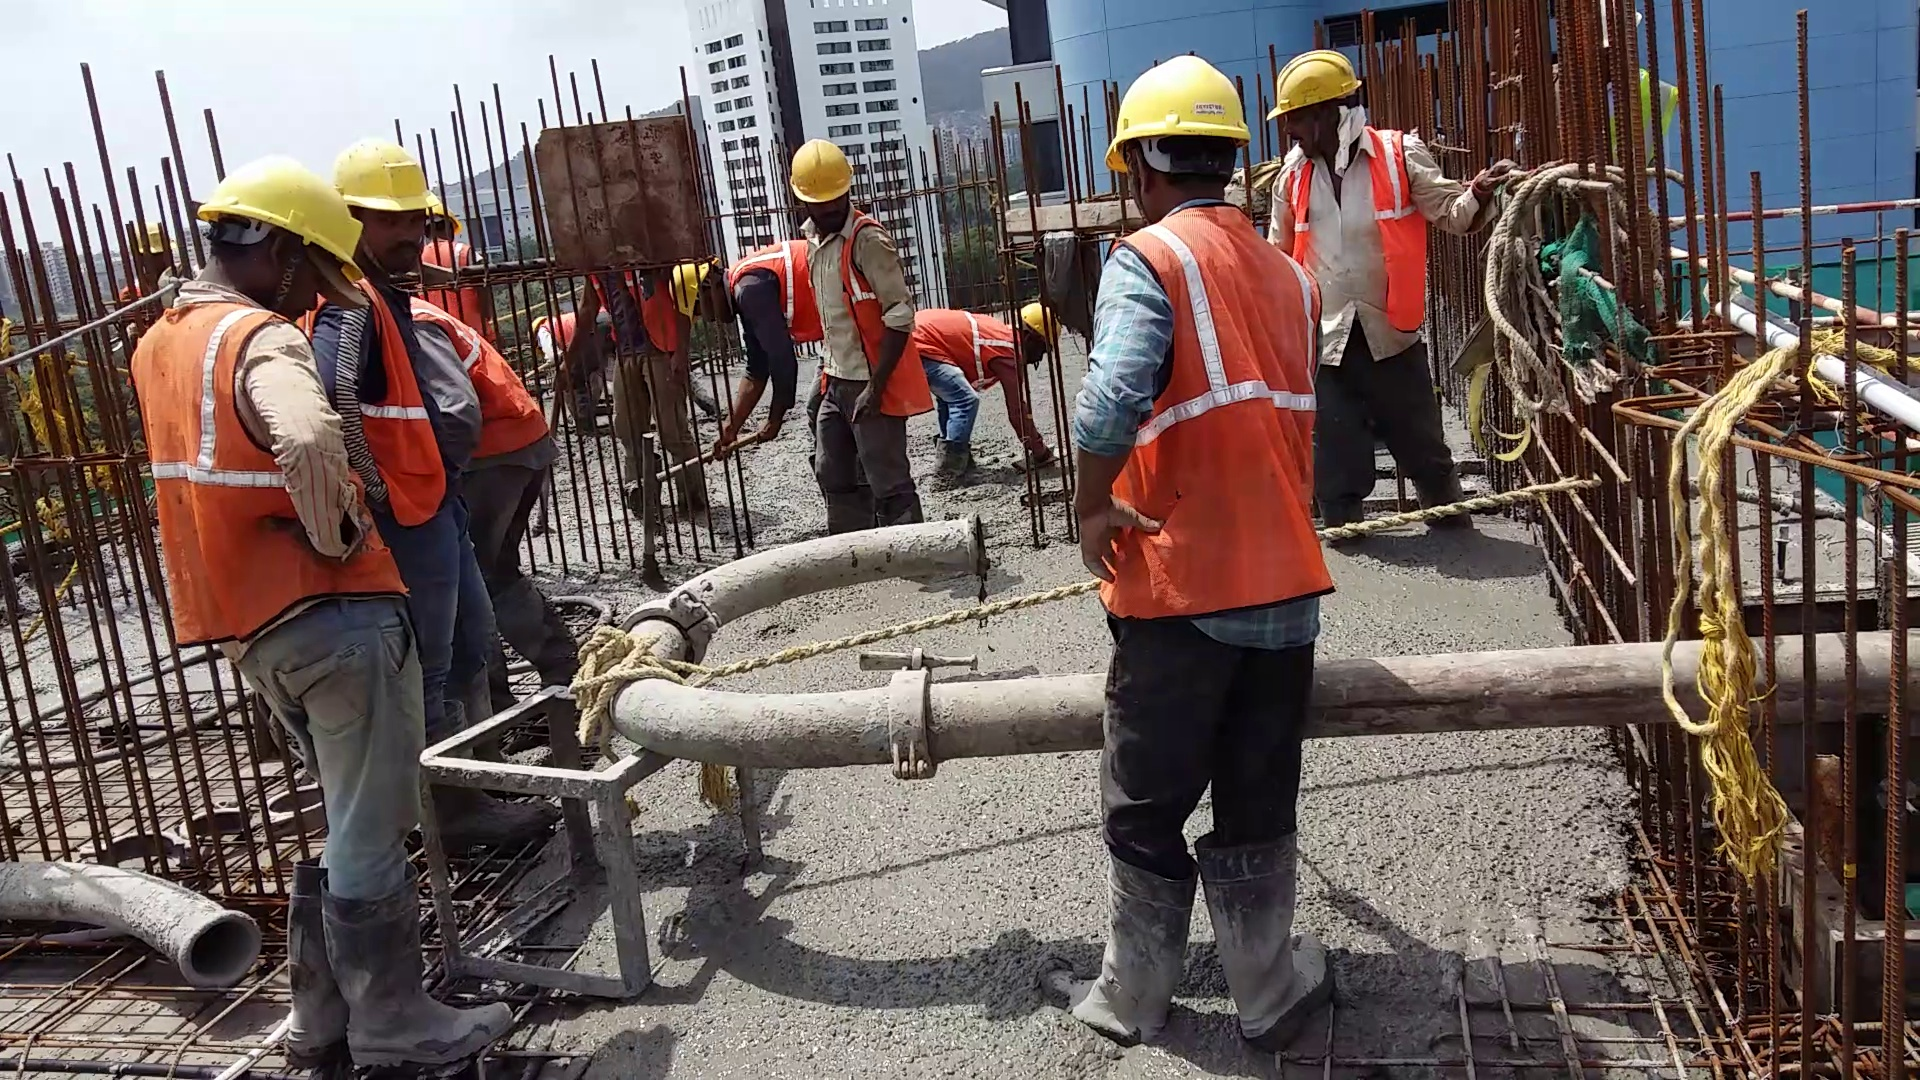SAFE: (1073, 49, 1323, 628), (131, 153, 367, 653), (1263, 42, 1439, 381), (770, 132, 932, 425), (363, 144, 442, 562), (914, 293, 1056, 418)
